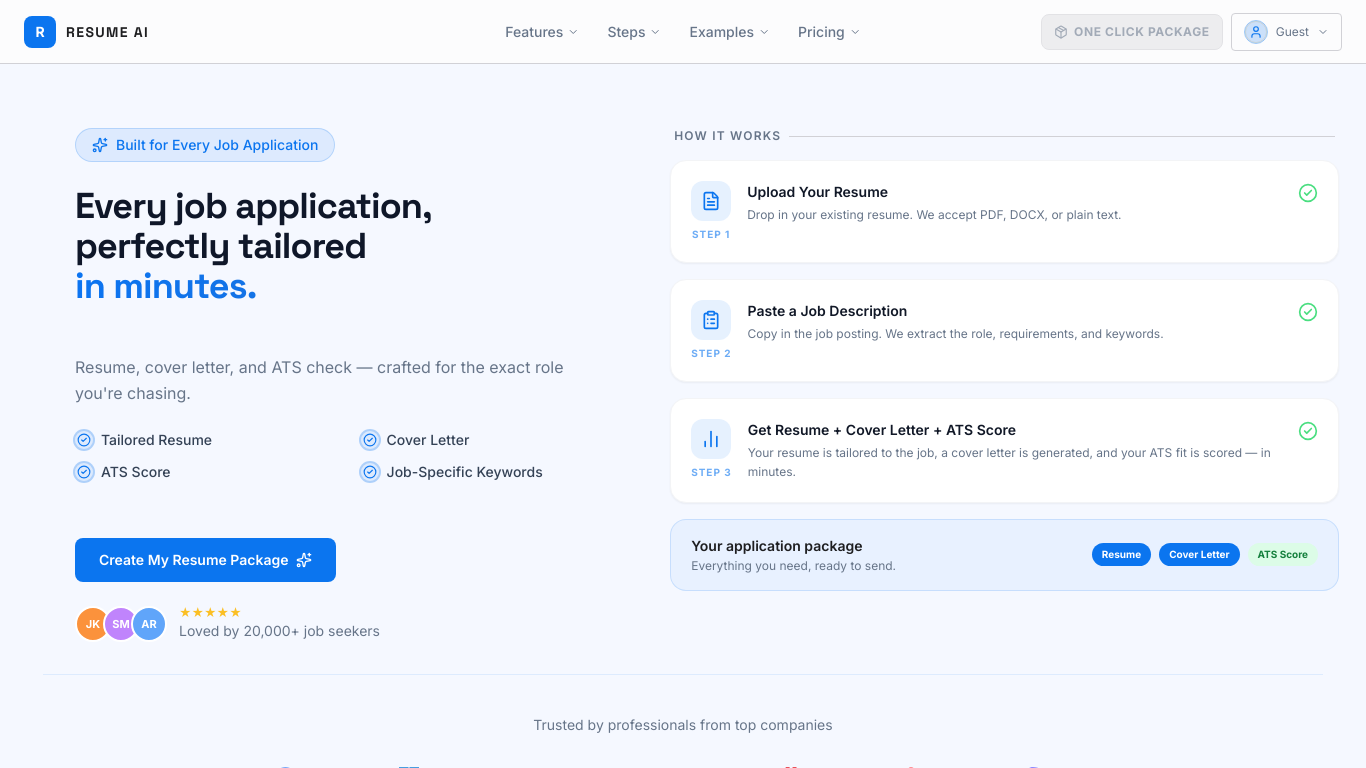
Test: Home — "Create My Resume Package" button (anonymous guest) › opens the picker modal when isGuest is true
The image size is (1366, 768).
Expected: the heading "Create Your Resume Package" is not shown
Step 1. Click the button "Create My Resume Package" → (206, 560), box [75,538,336,582]
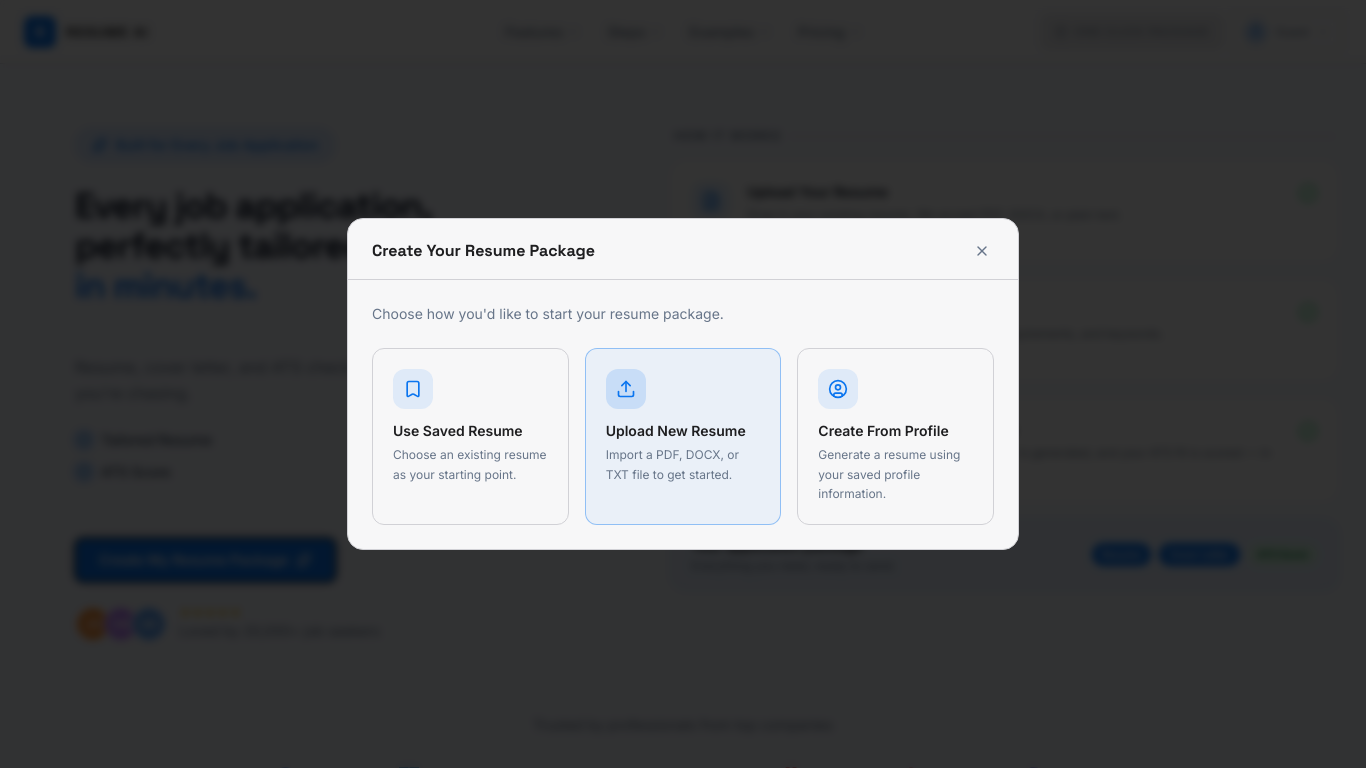
Expected: the heading "Create Your Resume Package" is shown, [372,239,595,263]
Expected: the text "Use Saved Resume" is shown, [393,422,523,439]
Expected: the text "Upload New Resume" is shown, [606,421,760,441]
